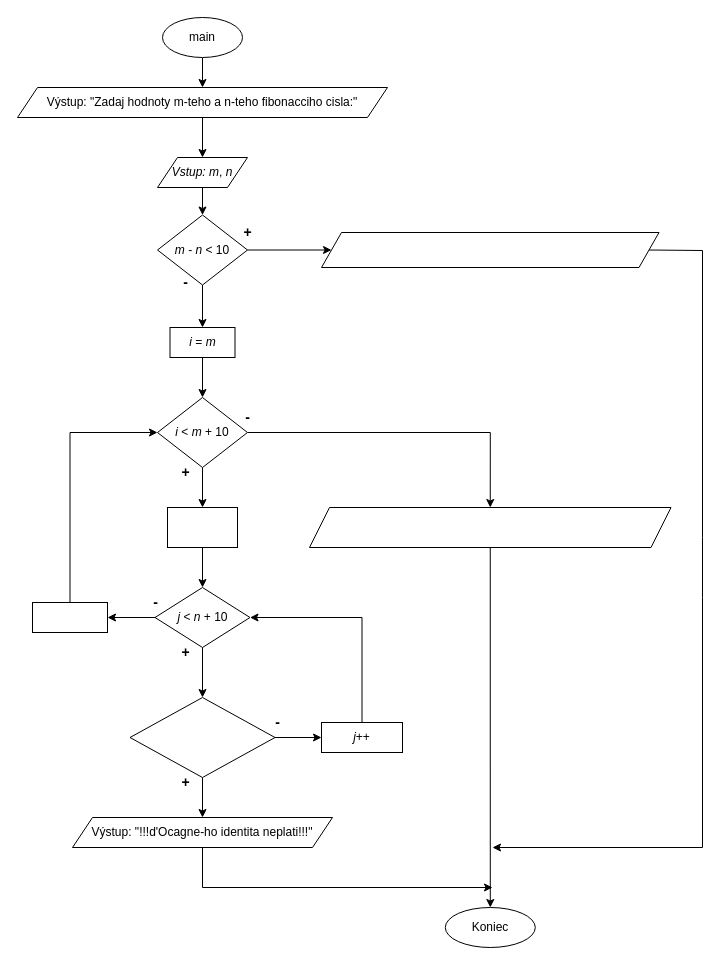
The diagram is 728 pixels wide and 965 high, and some of its shapes have lost their labels. Each missing label, with the centre of its shape:
i ++: point 70,617
j = n: point 202,527
porovnaj ( i , j ) != true: point 202,737
Výstup: "d'Ocagne-ho identita pre Fibonacciho cisla plati.": point 489,527
Výstup: "Hodnota m musi byt aspon o 10 vacsia ako n.": point 489,250
